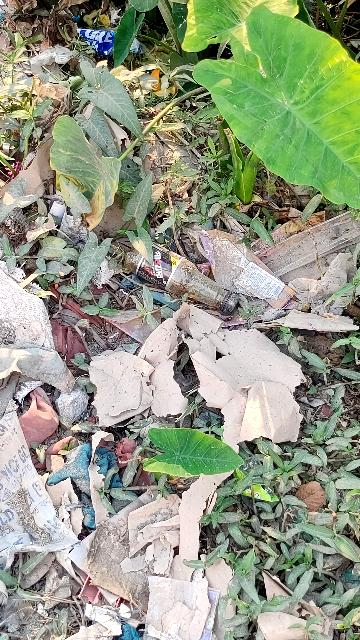bottle: (111, 227, 249, 325)
